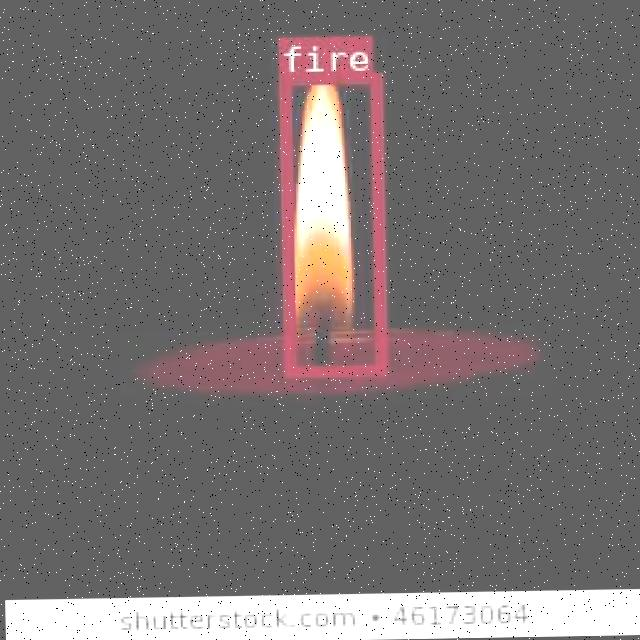fire: (276, 70, 384, 376)
